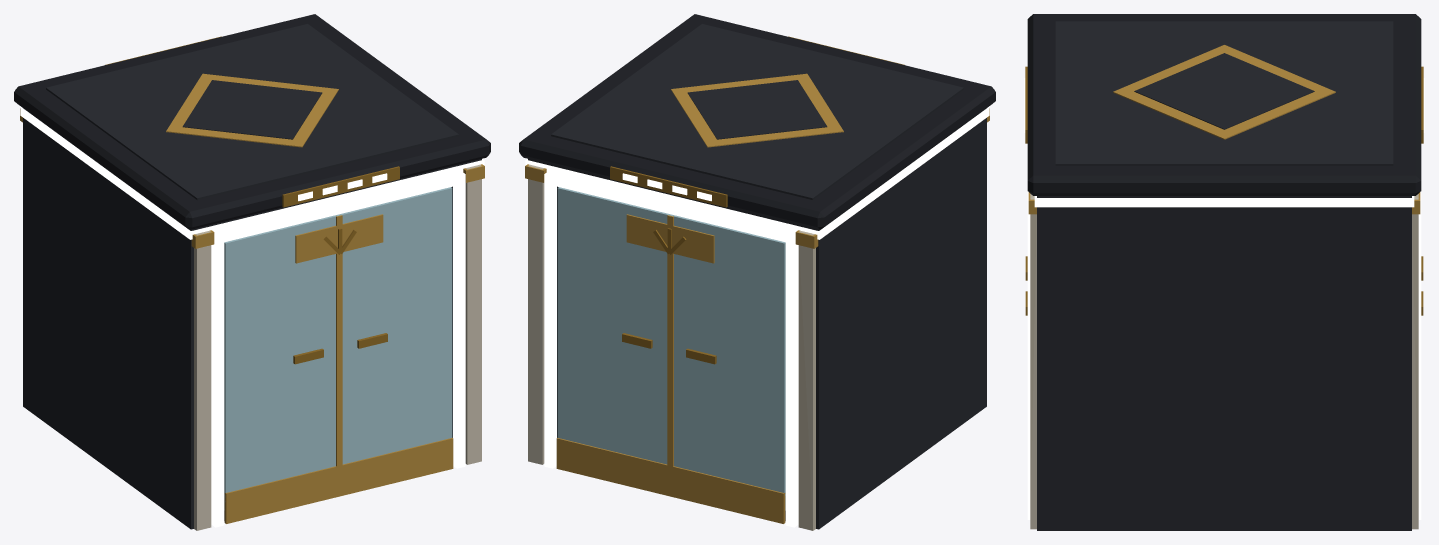
File: kit-newyork-door.glb
3 renders of one model, left to right at view 1: azimuth 30°, elevation 25°; view 2: azimuth 150°, elevation 25°; view 3: azimuth 270°, elevation 25°, orthographic. The views are drawn at different scales.
Parts seen in each view (by area): view 1: kit-newyork-door; view 2: kit-newyork-door; view 3: kit-newyork-door.
Part boxes in pixels (x1,y1,x2,y2): kit-newyork-door: [14, 14, 490, 530]; kit-newyork-door: [519, 14, 995, 530]; kit-newyork-door: [1024, 14, 1424, 530].
Size of the model in its own units: 2.1 by 2.12 by 2.14.
